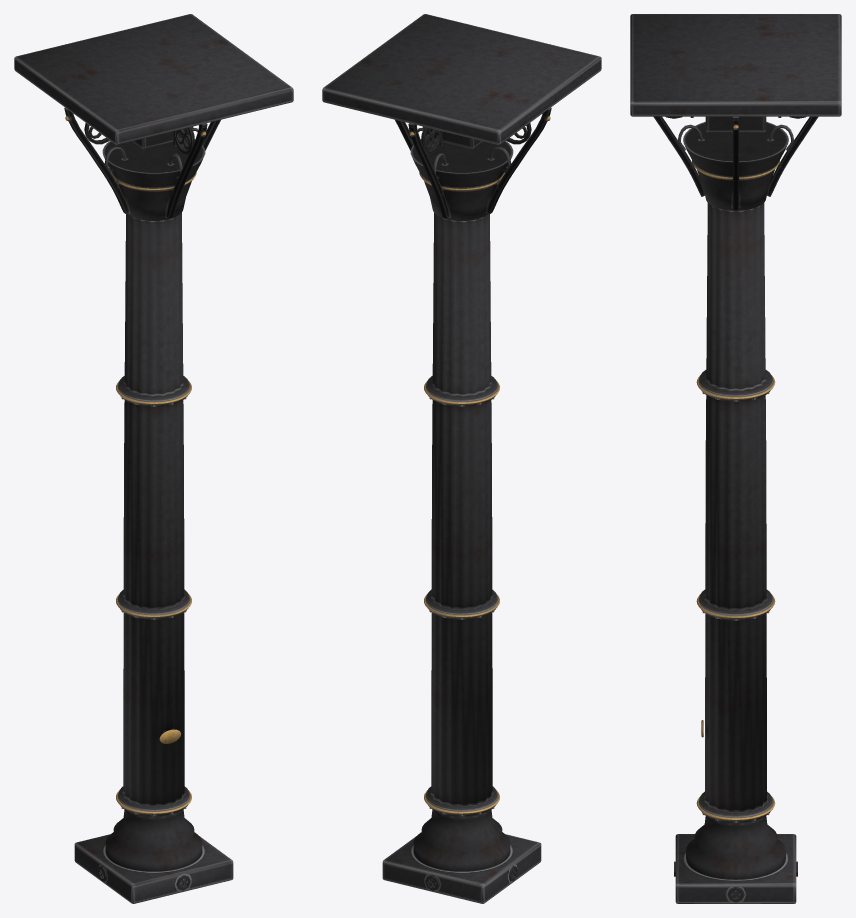
Rendered from PillarIron.fbx.
3 renders of one model, left to right at view 1: azimuth 30°, elevation 25°; view 2: azimuth 150°, elevation 25°; view 3: azimuth 270°, elevation 25°, orthographic. The views are drawn at different scales.
Visible parts, largest first — view 1: PillarIron; view 2: PillarIron; view 3: PillarIron.
Boxes of the visible parts, x1,y1,x2,y2 form: PillarIron: (14, 14, 293, 903); PillarIron: (322, 14, 601, 903); PillarIron: (630, 14, 841, 903).
Bounding box in the file's own units: 280 × 1200 × 280.
